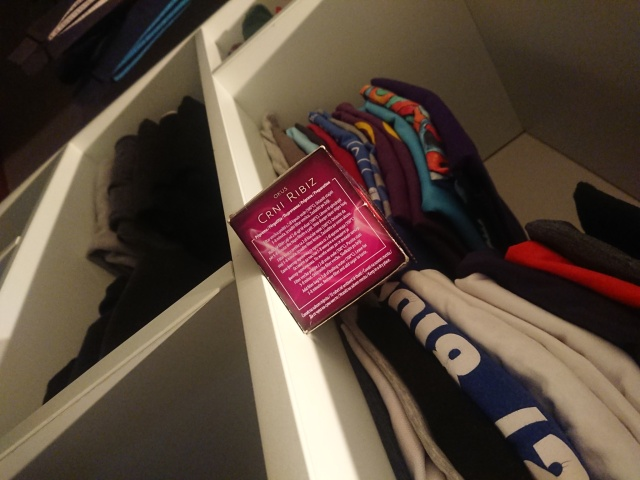Franck Black Currant Tea 60g: (225, 143, 421, 335)
